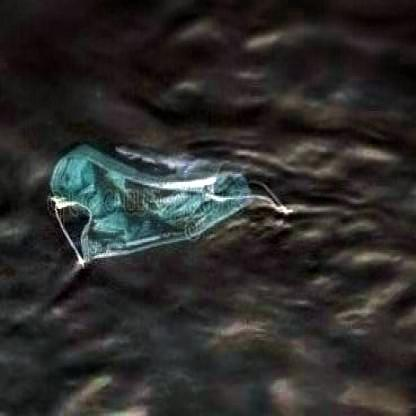Mask: (45, 132, 290, 276)
